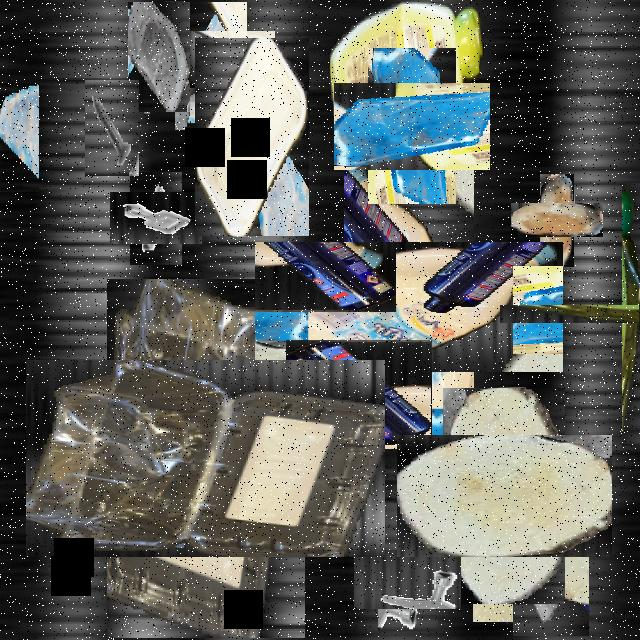glass: (351, 65, 473, 187), (219, 426, 295, 562), (513, 502, 589, 636), (161, 16, 261, 116), (473, 512, 535, 622), (128, 2, 190, 112), (0, 84, 39, 194)
metal: (366, 538, 450, 621), (120, 182, 192, 255), (85, 80, 139, 176)
plastic: (67, 319, 345, 598), (299, 198, 519, 417), (195, 38, 309, 236), (330, 2, 484, 140), (295, 331, 423, 458), (560, 244, 640, 384)
wood: (420, 411, 588, 581), (525, 189, 589, 252)
